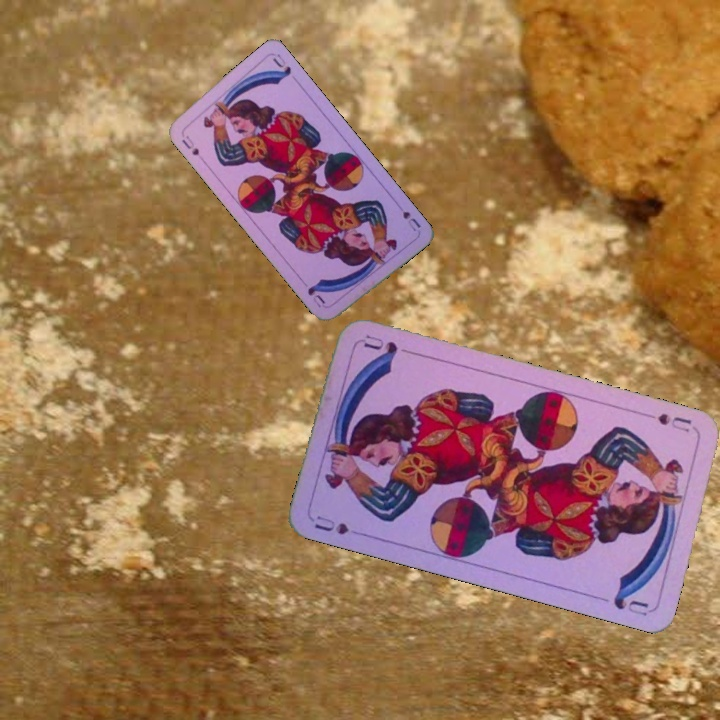SU: (310, 511, 369, 540), (653, 409, 699, 435), (178, 131, 207, 163), (397, 207, 424, 234)
